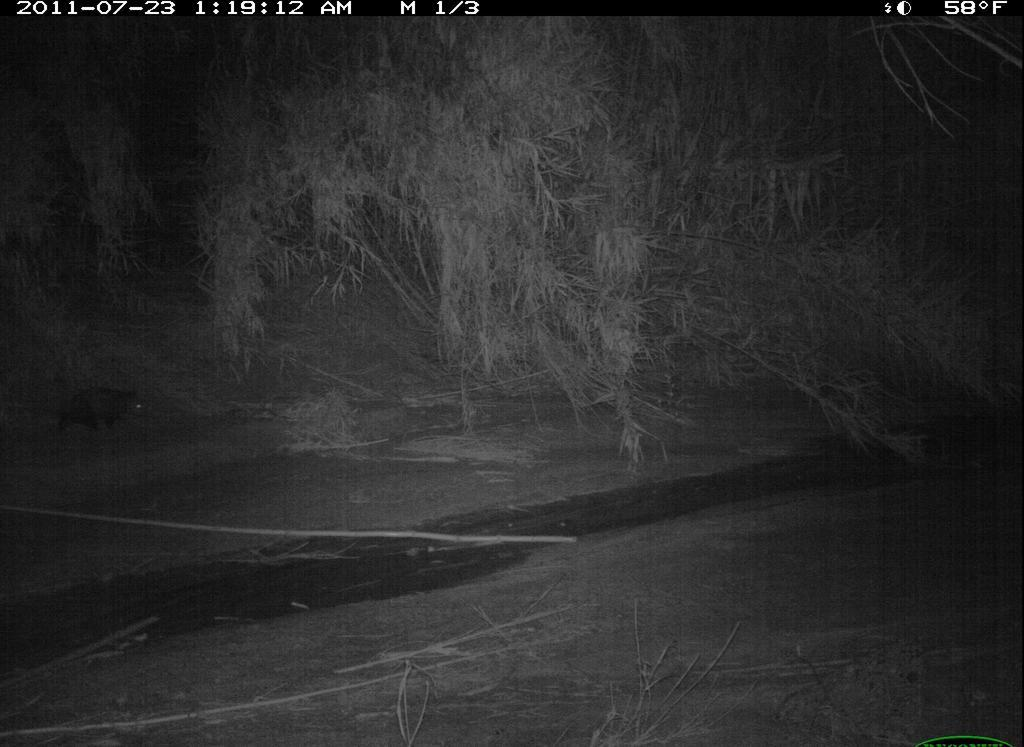opossum: (34, 379, 161, 446)
